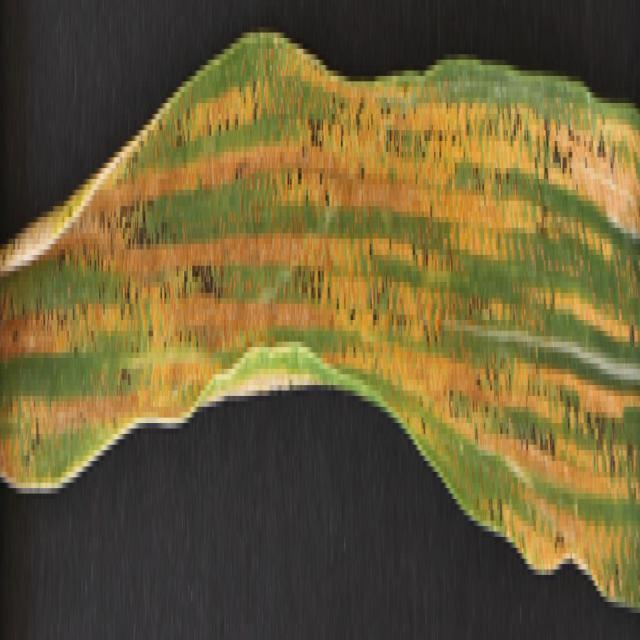leaf rust: (0, 21, 640, 607)
